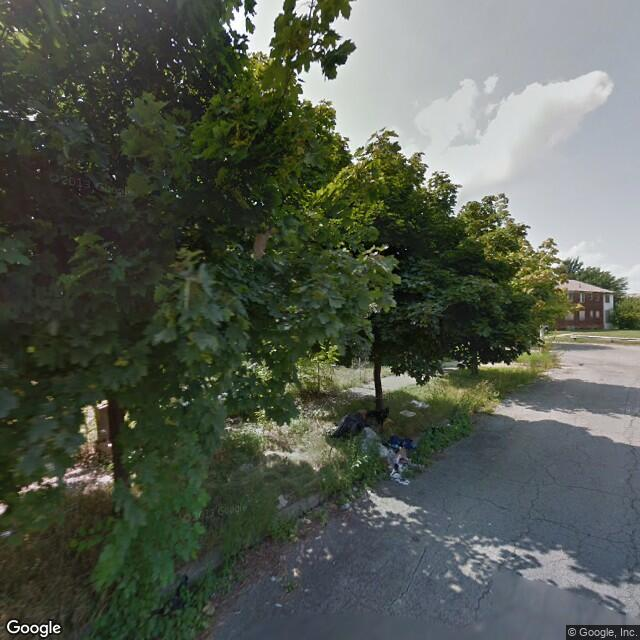litter: (361, 438, 412, 472), (331, 411, 383, 438), (275, 488, 290, 512), (405, 400, 432, 408)
